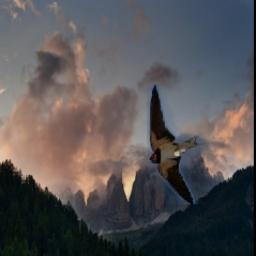Swallow: (147, 84, 220, 204)
